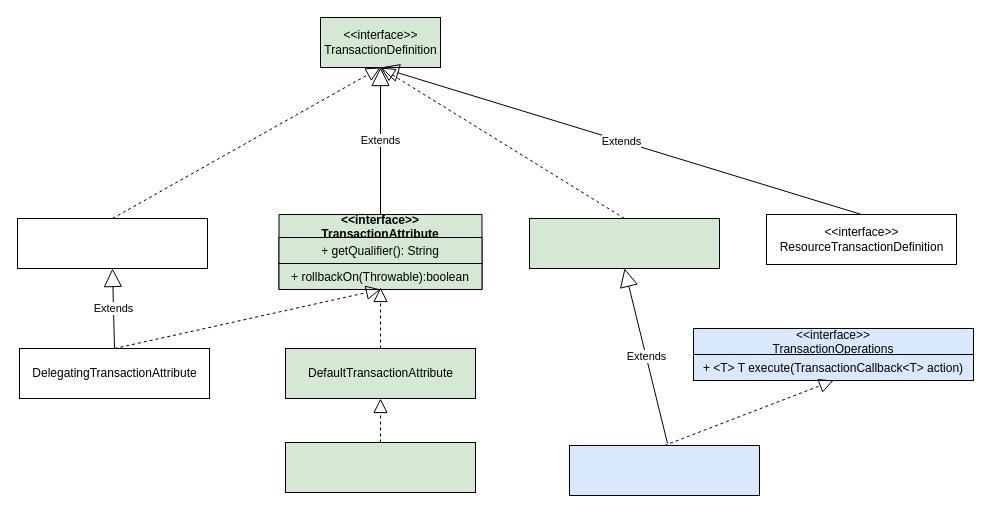
This 991x513 diagram has some shape labels left out. Each missing label, with the centre of its shape:
DefaultTransactionDefinition: point 624,243
DelegatingTransactionDefinition: point 112,243
RuleBasedTransactionAttribute: point 380,467
TransactionTemplate: point 664,470
